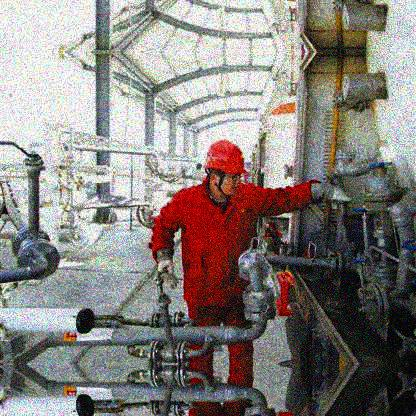helmet: (204, 141, 247, 198)
